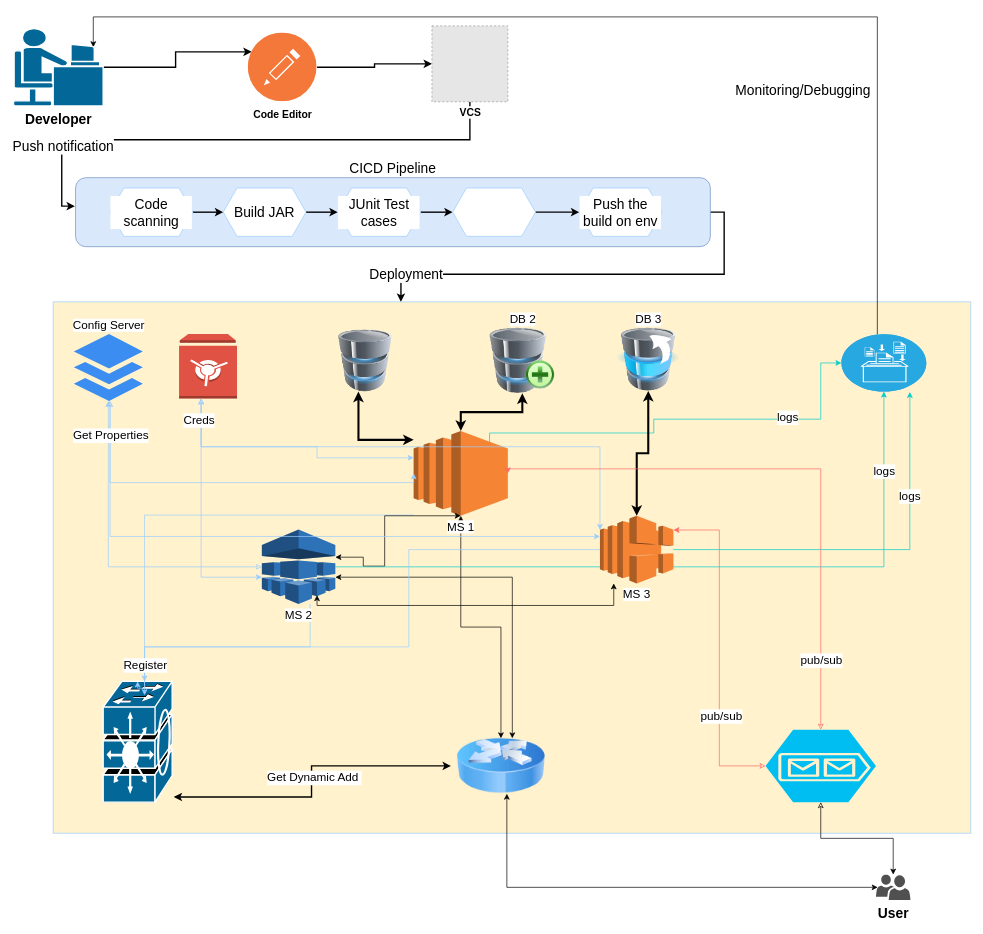
This 983x934 diagram has some shape labels left out. Grey dashed boxes stand in for pictures. Each missing label, with the box of its shape:
API Gateway: (451, 738, 551, 793)
Centralizes Logging: (841, 334, 926, 392)
Cloud: (52, 301, 971, 833)
DB 1: (337, 329, 393, 391)
Eureka: (102, 680, 172, 802)
Messaging Service: (765, 729, 876, 802)
Sonar Code scan: (452, 187, 535, 236)
Vault: (178, 333, 237, 398)
